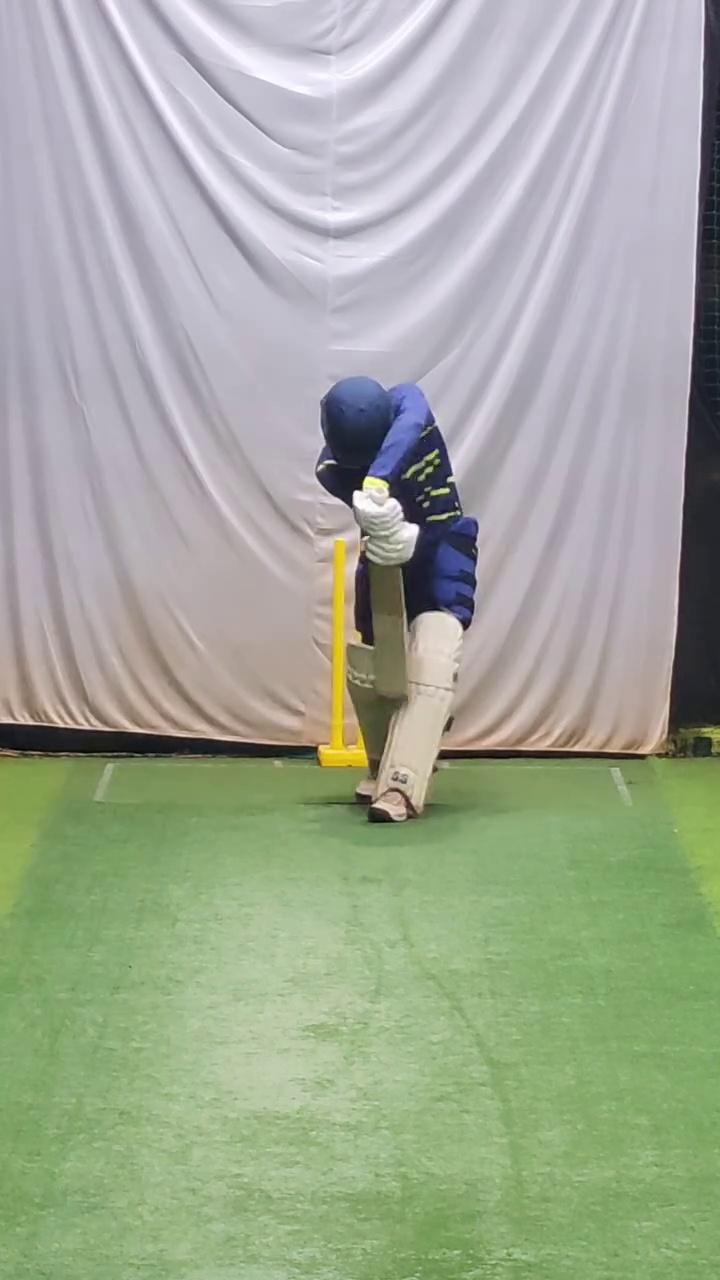bat: (367, 559, 410, 704)
